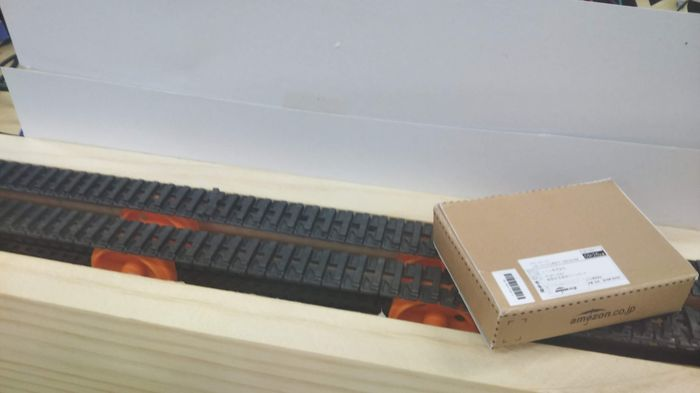box2: (427, 176, 697, 353)
